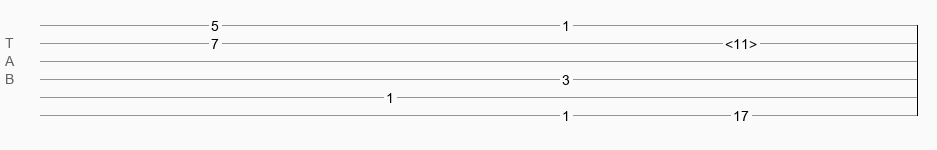1: (386, 90, 394, 100), (562, 108, 570, 118), (562, 18, 570, 28)
17: (733, 108, 749, 118)
3: (562, 72, 570, 82)
5: (211, 18, 219, 28)
7: (211, 36, 219, 46)
harmonic: (725, 36, 757, 46)
